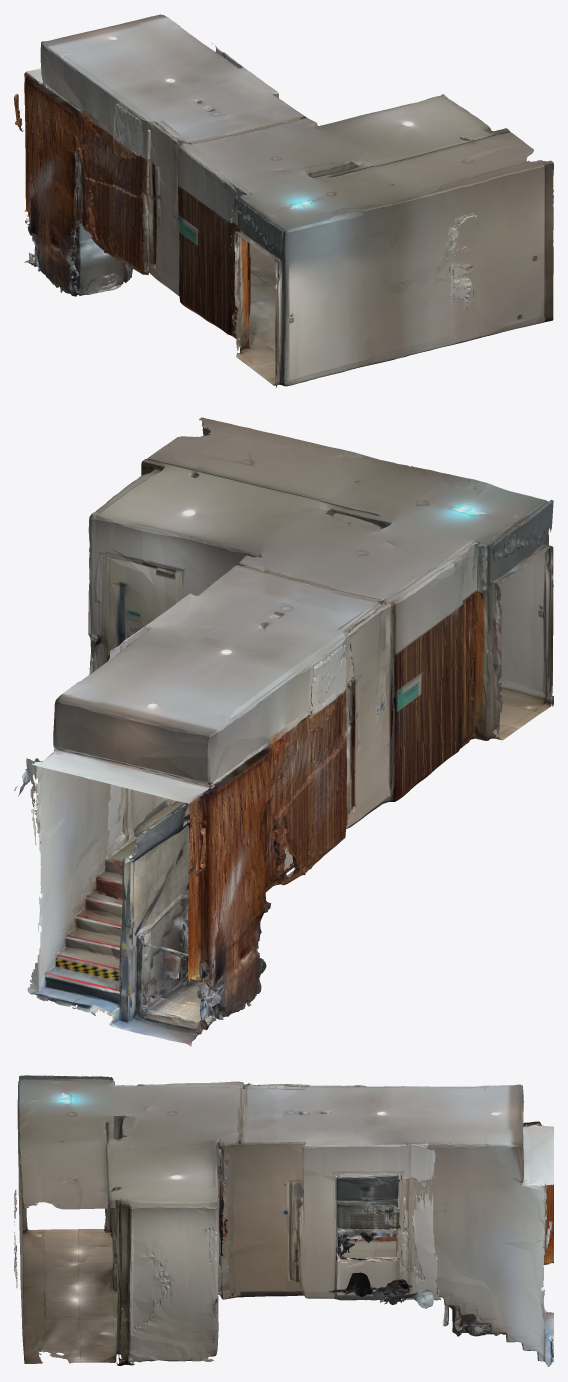
File: G_corridor_4_LOW_POLY.fbx
The picture shows the model from 3 angles, top to bottom: view 1: azimuth 30°, elevation 25°; view 2: azimuth 150°, elevation 25°; view 3: azimuth 270°, elevation 25°; orthographic projection. The views are drawn at different scales.
Parts seen in each view (by area): view 1: G_corridor_4_LOW_POLY; view 2: G_corridor_4_LOW_POLY; view 3: G_corridor_4_LOW_POLY.
Boxes of the visible parts, left/top/right/bottom form: G_corridor_4_LOW_POLY: left=14, top=14, right=553, bottom=387; G_corridor_4_LOW_POLY: left=14, top=417, right=553, bottom=1046; G_corridor_4_LOW_POLY: left=14, top=1075, right=553, bottom=1366.
Size of the model in its own units: 557 by 454 by 955.
Materials: 1 (1 with a texture image).
